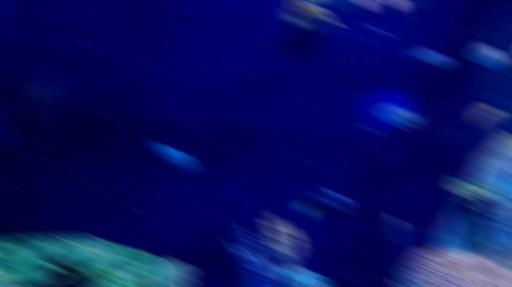Fish: (285, 3, 338, 28), (298, 190, 347, 217), (152, 140, 193, 169), (378, 104, 423, 127), (468, 105, 501, 128), (407, 49, 450, 66), (470, 46, 503, 65), (391, 216, 404, 247), (396, 281, 398, 286)
